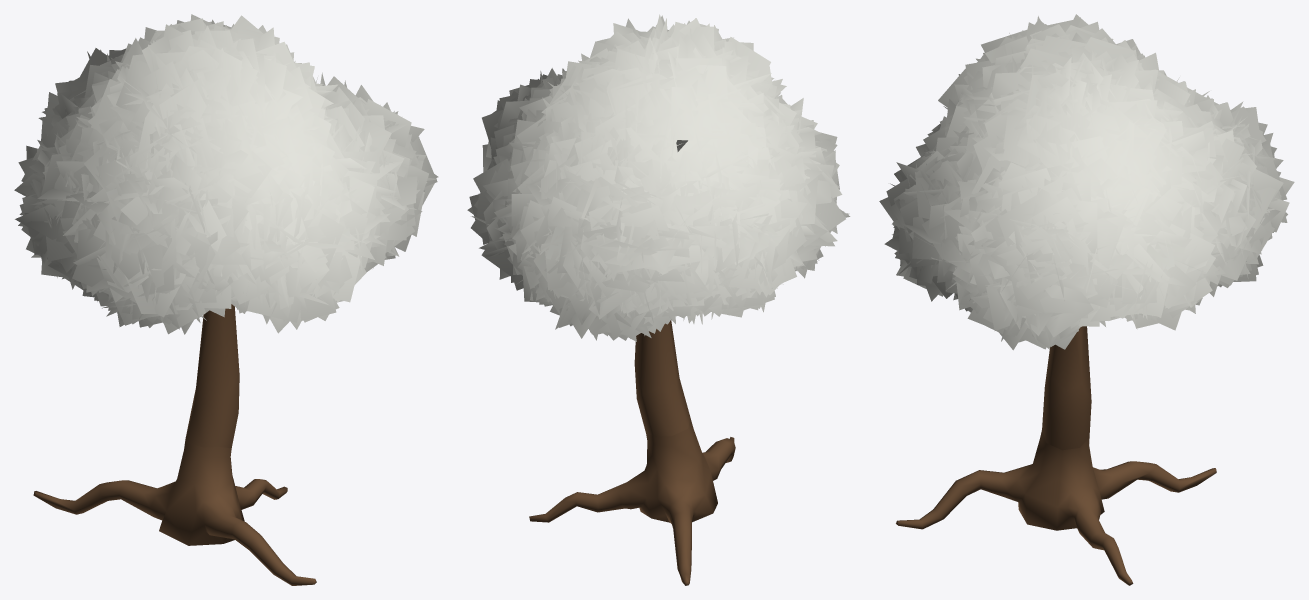
Rendered from Tree1_segments.fbx.
The picture shows the model from 3 angles, left to right: view 1: azimuth 30°, elevation 25°; view 2: azimuth 150°, elevation 25°; view 3: azimuth 270°, elevation 25°; orthographic projection. The views are drawn at different scales.
Parts seen in each view (by area): view 1: Leaf.003, Trunk1, Trunk2; view 2: Leaf.003, Trunk1, Trunk2; view 3: Leaf.003, Trunk1, Trunk2.
Boxes of the visible parts, left/top/right/bottom form: Leaf.003: left=14, top=14, right=438, bottom=334; Trunk1: left=33, top=439, right=316, bottom=585; Trunk2: left=185, top=304, right=239, bottom=448; Leaf.003: left=467, top=14, right=850, bottom=341; Trunk1: left=529, top=419, right=735, bottom=585; Trunk2: left=634, top=320, right=690, bottom=436; Leaf.003: left=879, top=14, right=1294, bottom=350; Trunk1: left=896, top=430, right=1216, bottom=585; Trunk2: left=1042, top=326, right=1091, bottom=450.
Bounding box in the file's own units: 459 × 626 × 464.
